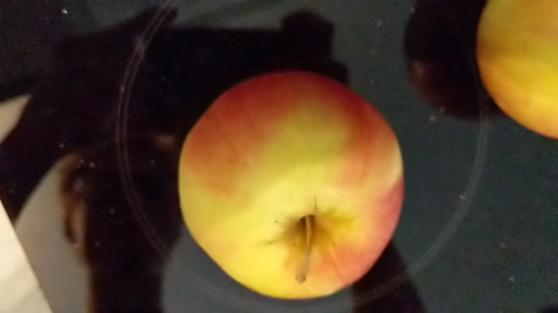apple: (176, 70, 406, 301)
